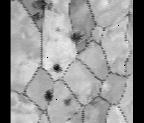good_void: (32, 0, 54, 9), (42, 88, 55, 102), (71, 28, 83, 40), (31, 10, 41, 20), (62, 96, 71, 106), (52, 62, 61, 70), (55, 26, 60, 32)
